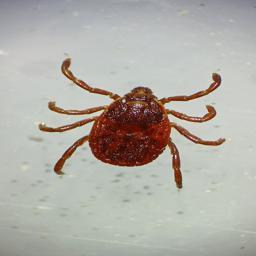Rhipicephalus sanguineus: (37, 59, 226, 189)
